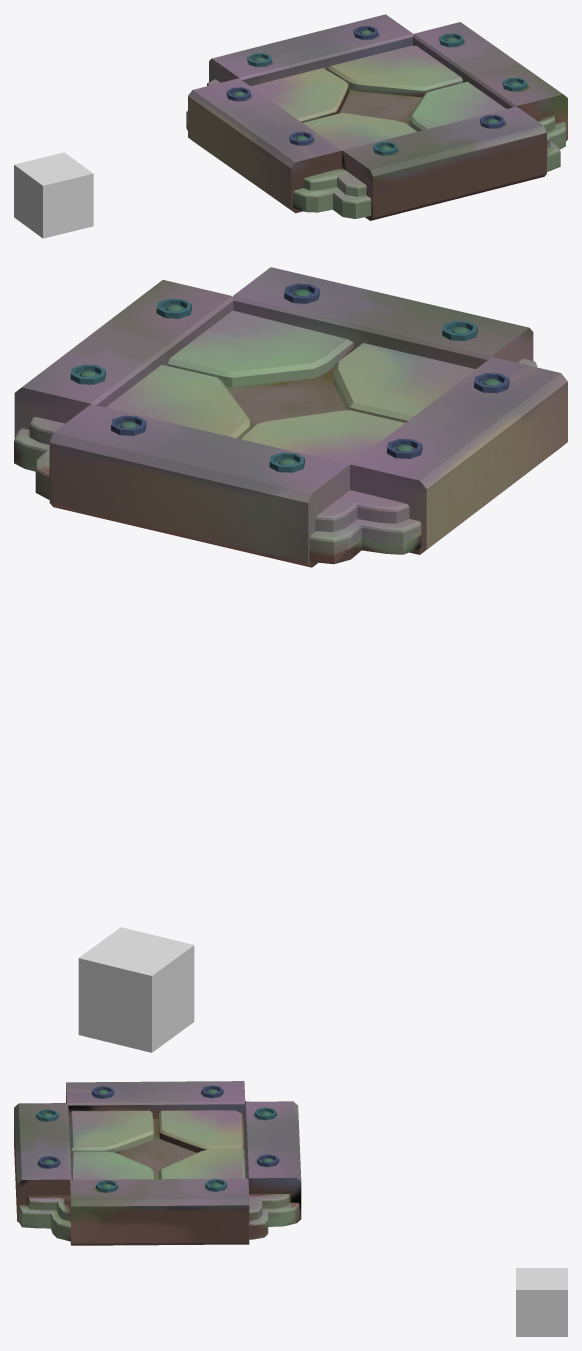
File: award-floor006.fbx
3 views of the same model, one above another, from view 1: azimuth 30°, elevation 25°; view 2: azimuth 150°, elevation 25°; view 3: azimuth 270°, elevation 25° (orthographic). The views are drawn at different scales.
Visible parts, largest first — view 1: Circle.005, award-floor006; view 2: Circle.005, award-floor006; view 3: Circle.005, award-floor006.
Part boxes in pixels (x1,y1,x2,y2): Circle.005: [186, 14, 567, 220]; award-floor006: [14, 152, 93, 238]; Circle.005: [14, 267, 567, 567]; award-floor006: [78, 927, 194, 1052]; Circle.005: [14, 1081, 301, 1245]; award-floor006: [516, 1268, 567, 1336].
Size of the model in its own units: 336 by 300 by 638.
